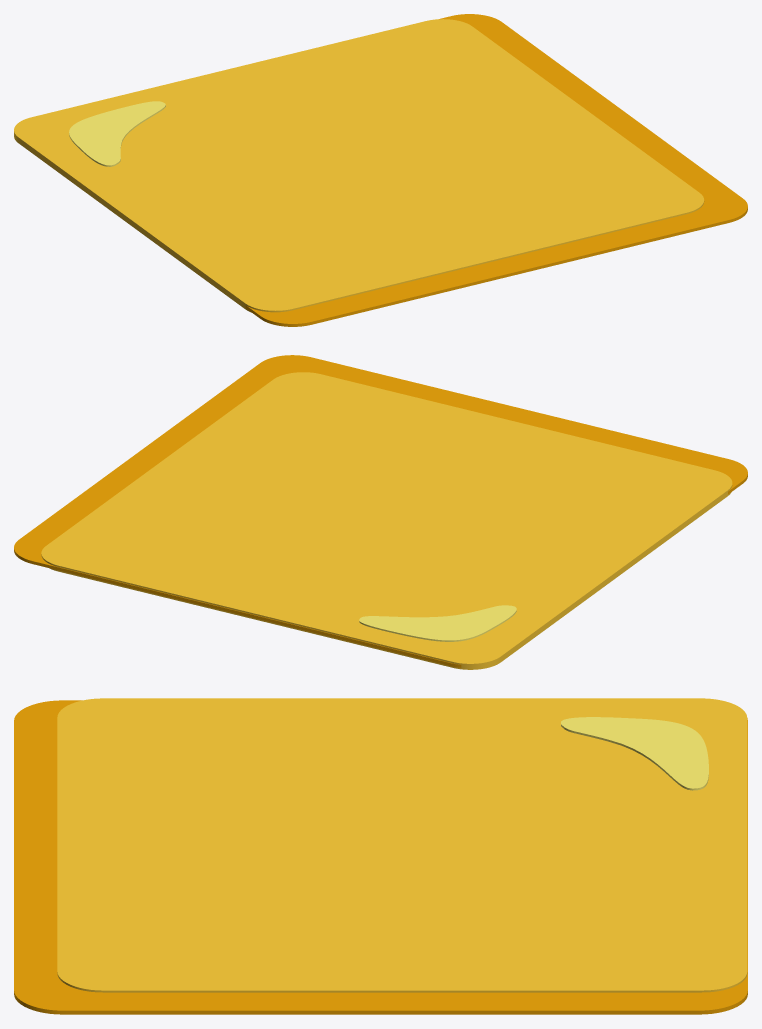
Rendered from emoji_u1f7e8.glb.
3 renders of one model, top to bottom at view 1: azimuth 30°, elevation 25°; view 2: azimuth 150°, elevation 25°; view 3: azimuth 270°, elevation 25°, orthographic. The views are drawn at different scales.
Visible parts, largest first — view 1: emoji_u1f7e8; view 2: emoji_u1f7e8; view 3: emoji_u1f7e8.
Boxes of the visible parts, x1,y1,x2,y2 form: emoji_u1f7e8: (14, 14, 747, 326); emoji_u1f7e8: (14, 355, 747, 669); emoji_u1f7e8: (14, 698, 747, 1014).
Bounding box in the file's own units: 0.0339 × 0.0006 × 0.0339.
